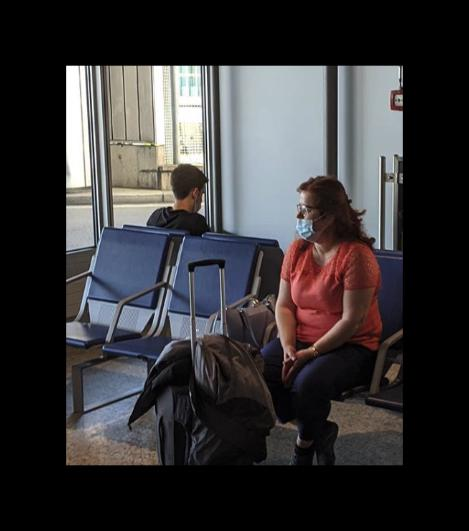mask_weared_incorrect: (288, 200, 322, 236)
